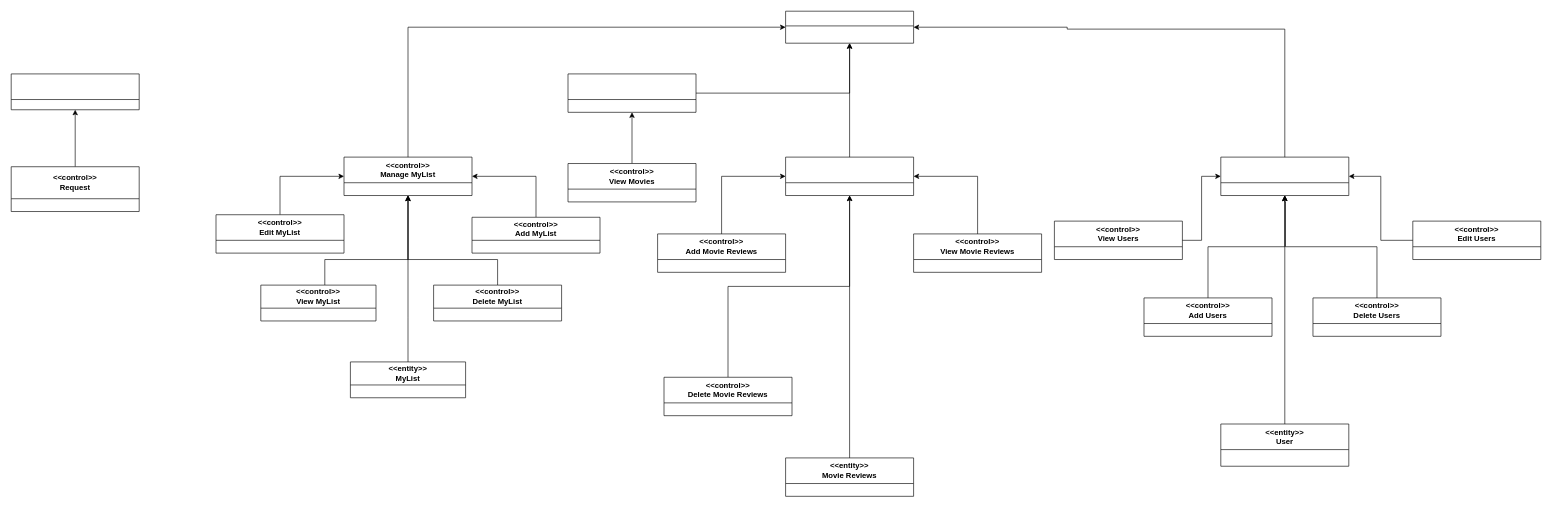
The diagram is 1552 pixels wide and 508 high, and some of its shapes have lost their labels. Here are the shapes that lost their labels. From the top down, the box of each, then its label:
(785, 11, 914, 43): MovieList UI
(11, 73, 139, 110): <<boundary>> API UI
(567, 73, 696, 112): <<control>> Manage Movies
(785, 156, 914, 196): <<control>> Manage Movie Reviews
(1220, 156, 1349, 196): <<control>> Manage Users
